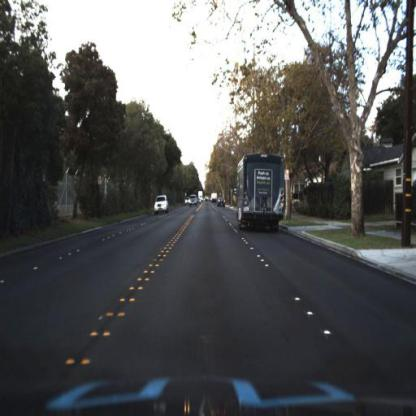car: (153, 195, 172, 216), (216, 191, 230, 211), (187, 193, 200, 211)
truck: (237, 151, 289, 232)
